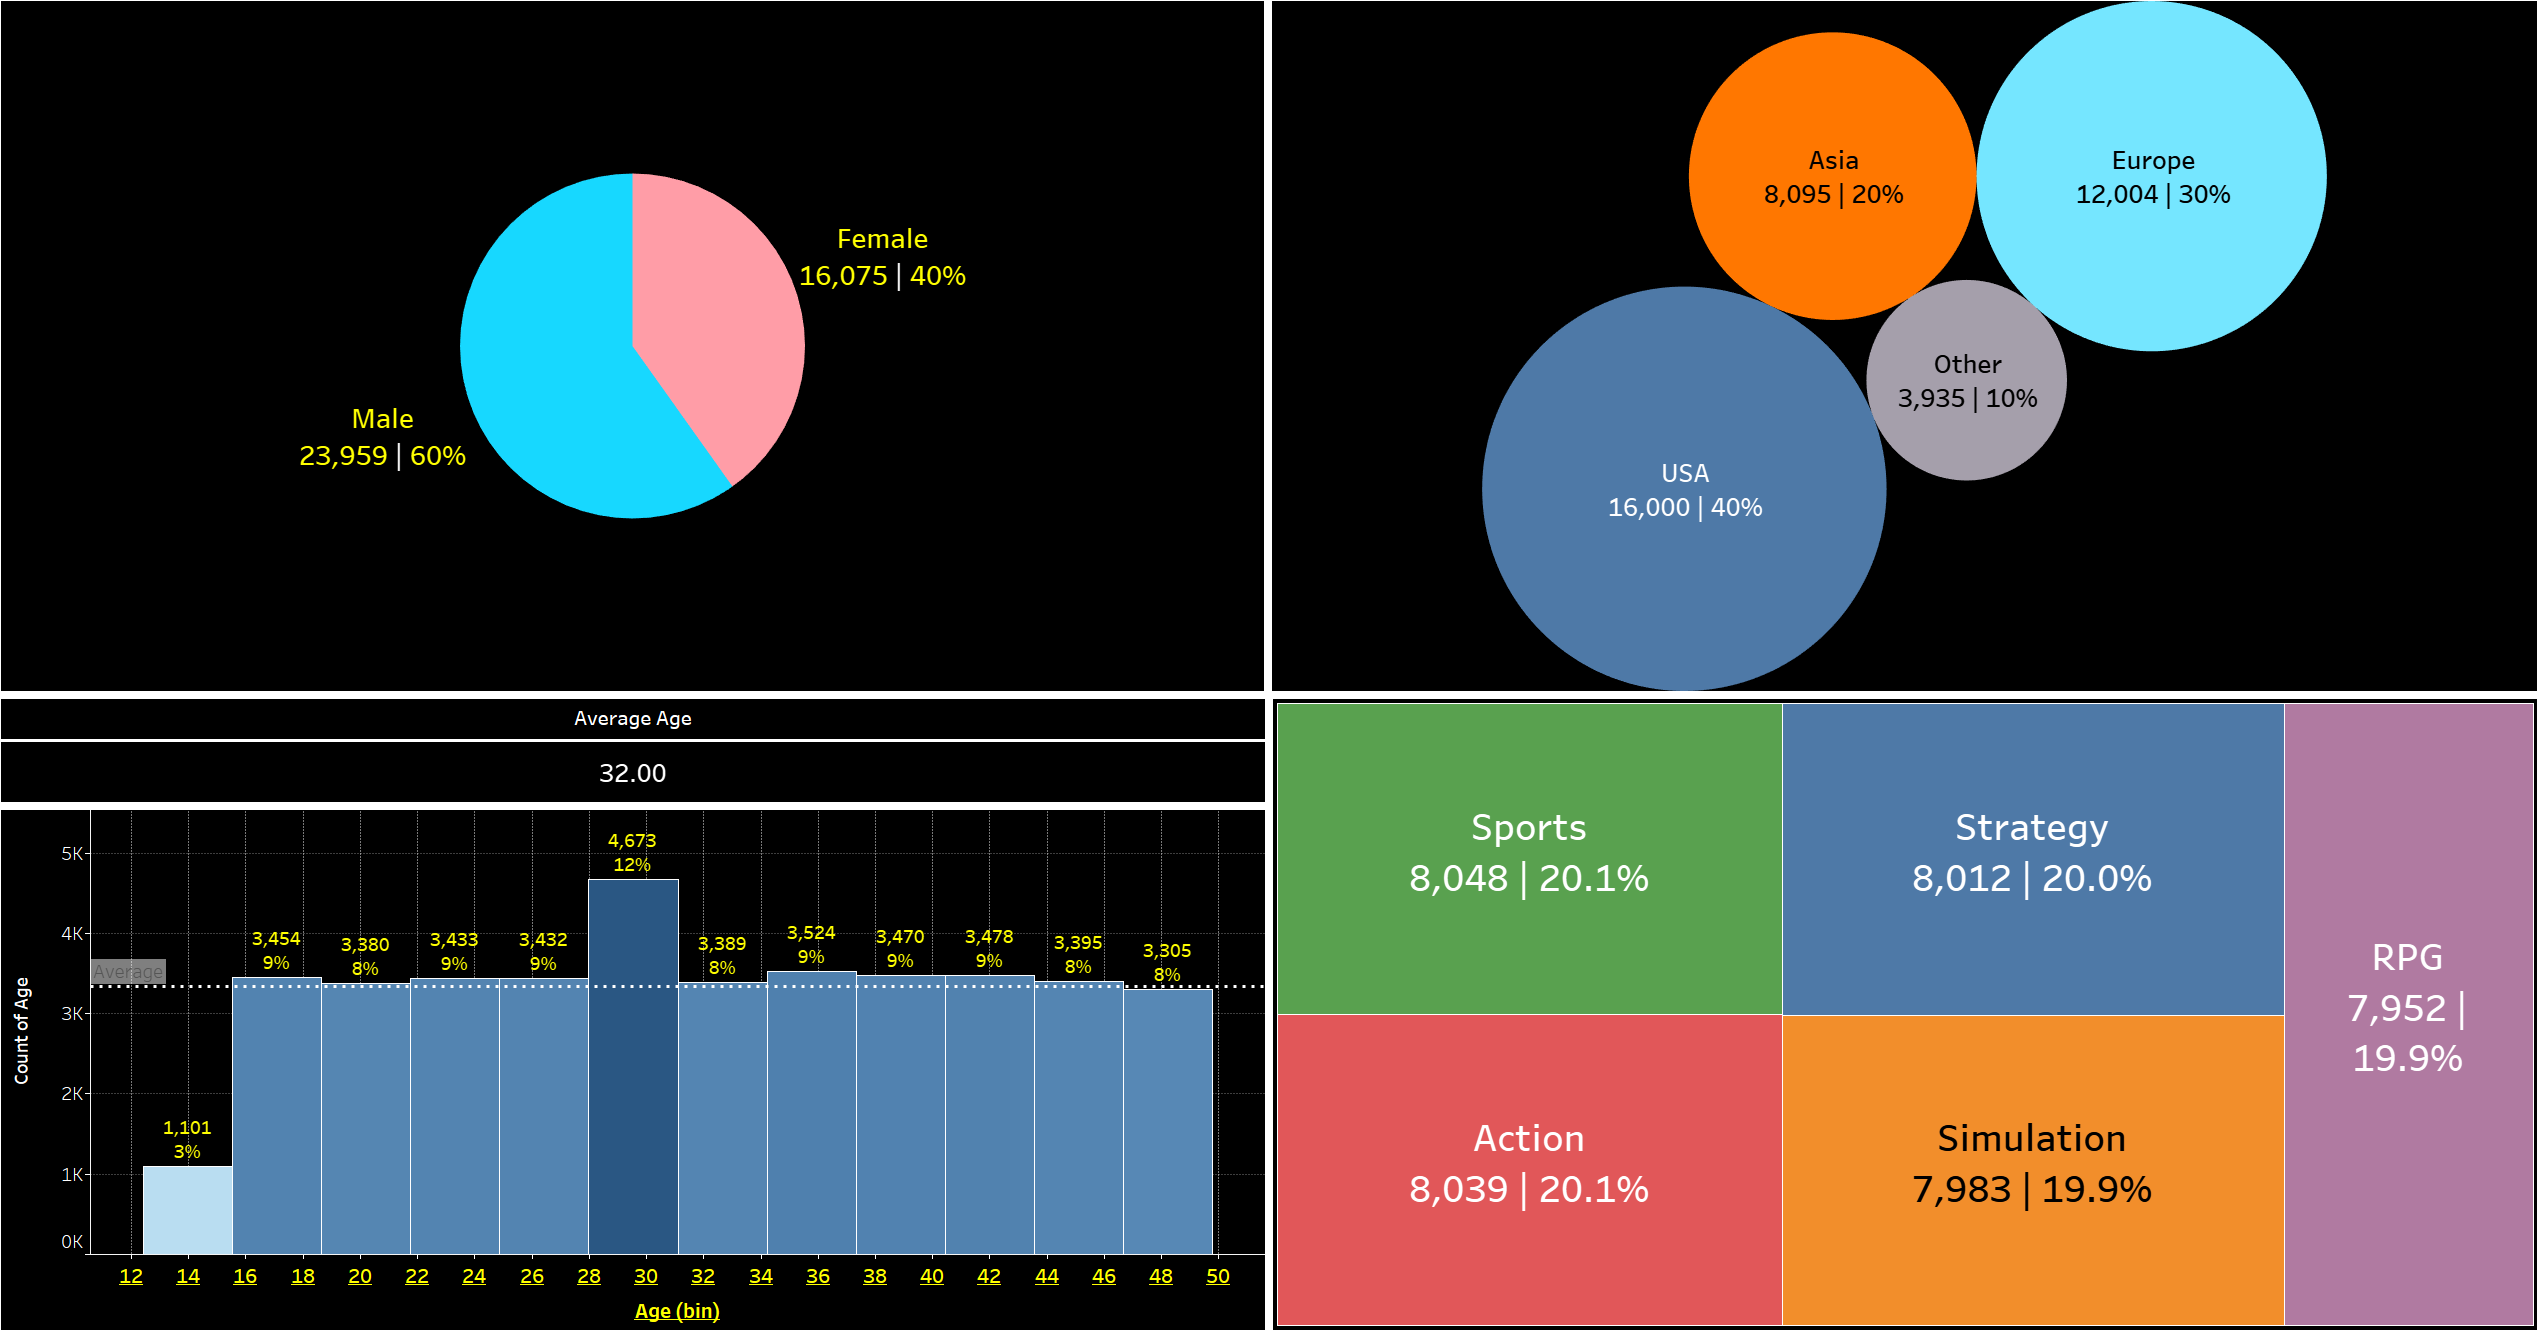

Layout of this report page (visuals, bound fields, positions):
{"tool":"tableau","page":{"name":"PlayerDemographics","canvas":[1000,1000],"units":"permille","ordinal":3},"visuals":[{"type":"worksheet","title":"GenderPieChart","mark":"Pie","box":[3.1,5.9,496.6,515.5]},{"type":"worksheet","title":"LocationPackedBubbles","mark":"Circle","box":[499.8,5.9,497.1,515.5]},{"type":"worksheet","title":"AverageAge","mark":"Automatic","box":[3.1,521.5,496.9,82]},{"type":"worksheet","title":"GameGenreTreeMap","mark":"Automatic","box":[500,521.5,496.9,472.6]},{"type":"worksheet","title":"AgeHistogram","mark":"Automatic","rows":["Age"],"cols":["Age (bin)"],"box":[3.1,603.5,496.9,390.6]}]}

Visuals, with their boxes on the dashboard's canvas, which has no fixed pixel size, in thousandths of its width and height (x1, y1, x2, y2). These are canvas units, not pixel positions in the 2539x1332 screenshot, which may show the page scaled, cropped or inside an application window:
"GenderPieChart" worksheet (Pie marks): <region>3, 6, 500, 521</region>
"LocationPackedBubbles" worksheet (Circle marks): <region>500, 6, 997, 521</region>
"AverageAge" worksheet: <region>3, 522, 500, 604</region>
"GameGenreTreeMap" worksheet: <region>500, 522, 997, 994</region>
"AgeHistogram" worksheet: <region>3, 604, 500, 994</region>
